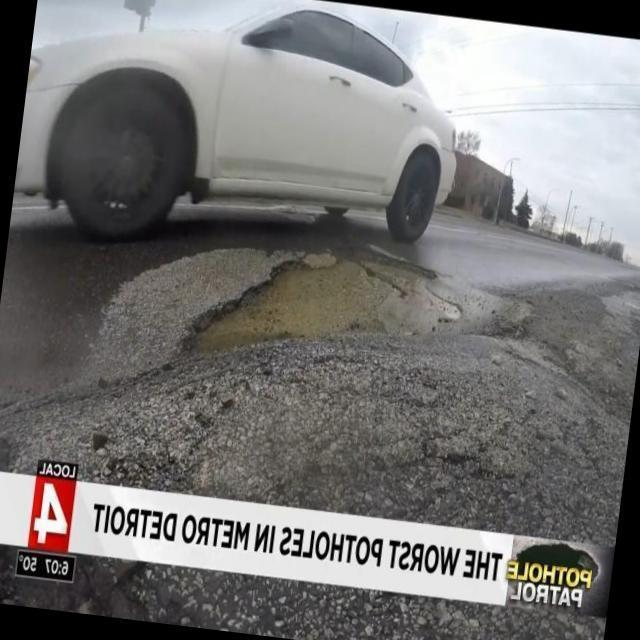Pothole: (162, 250, 517, 359)
